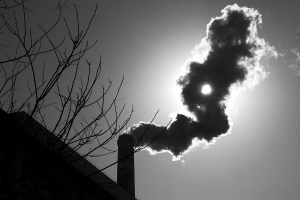dust: (115, 2, 278, 159)
